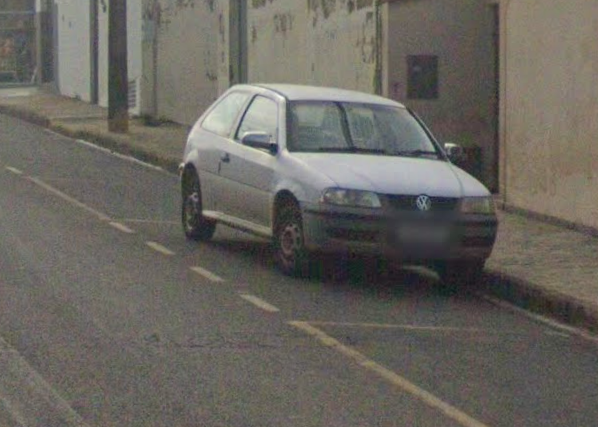car: (170, 72, 501, 306)
